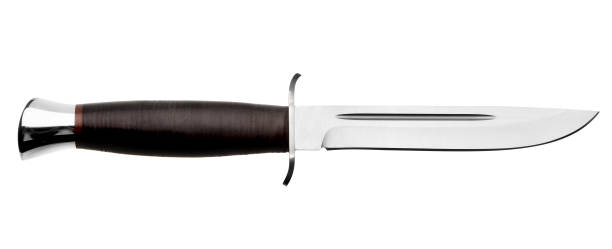knife: (14, 70, 602, 190)
